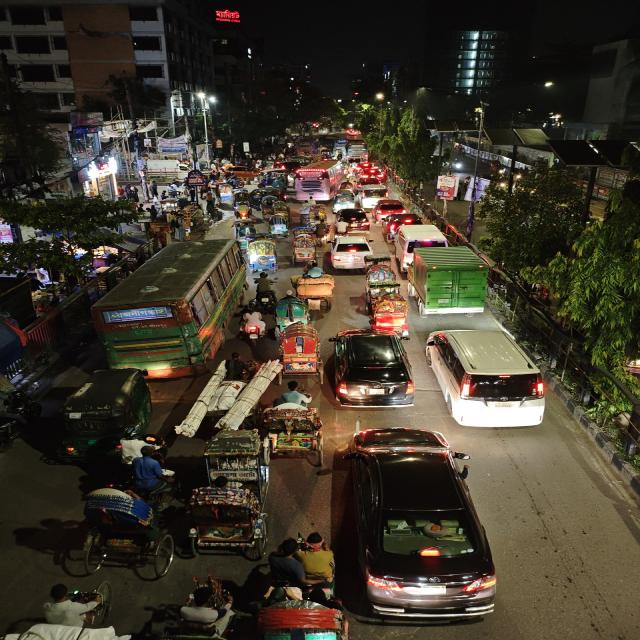bus: (93, 239, 245, 377), (292, 162, 342, 200), (343, 140, 369, 161), (298, 141, 316, 155)
car: (336, 431, 513, 623), (422, 325, 550, 432), (328, 328, 416, 407), (324, 232, 374, 272), (389, 223, 449, 251), (333, 207, 371, 232), (372, 199, 409, 219), (382, 212, 423, 226), (355, 177, 388, 193), (272, 159, 306, 171)
cng: (58, 366, 156, 454)
motorcycle: (236, 309, 266, 347), (254, 269, 279, 307)
rickshaw: (182, 431, 271, 561), (78, 486, 176, 582), (246, 580, 353, 640), (156, 581, 239, 640), (259, 390, 326, 462), (275, 320, 322, 378), (361, 282, 410, 334), (290, 263, 338, 307), (244, 233, 282, 273), (288, 227, 318, 265), (231, 193, 255, 222), (267, 215, 291, 239), (331, 191, 358, 211), (261, 195, 283, 216), (296, 201, 315, 225), (268, 200, 292, 218), (336, 178, 356, 193)
truck: (404, 246, 492, 318)
